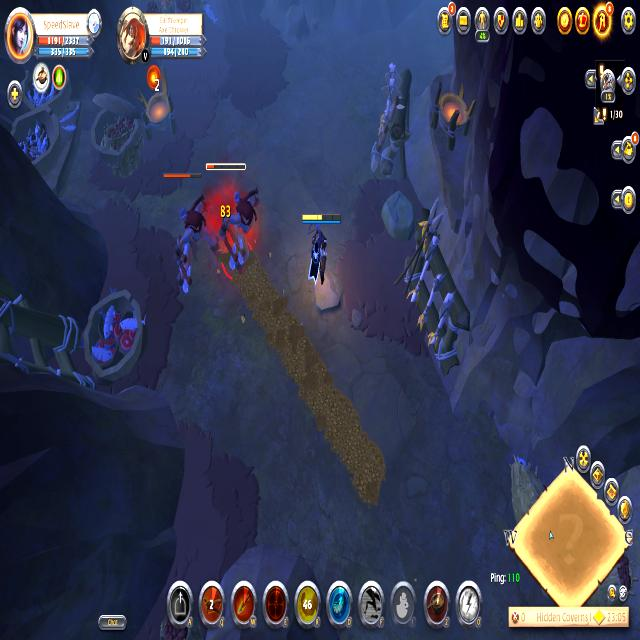ore: (203, 159, 266, 284), (156, 174, 212, 296)
red: (300, 208, 346, 284)
